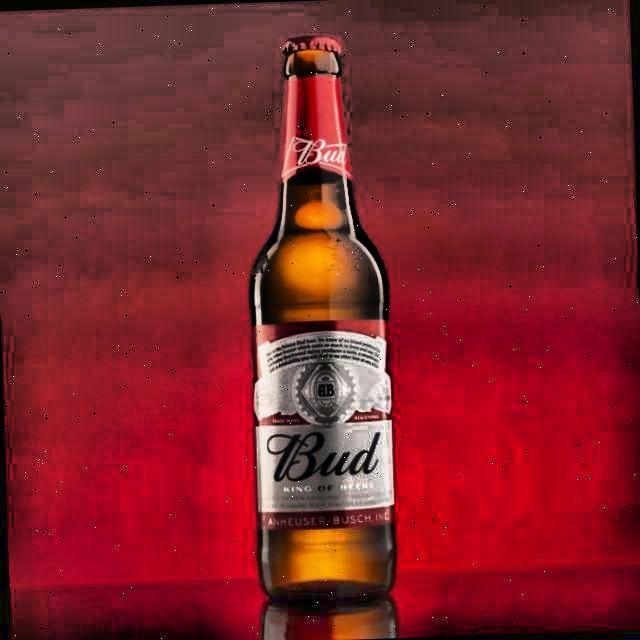glass: (251, 37, 397, 605)
